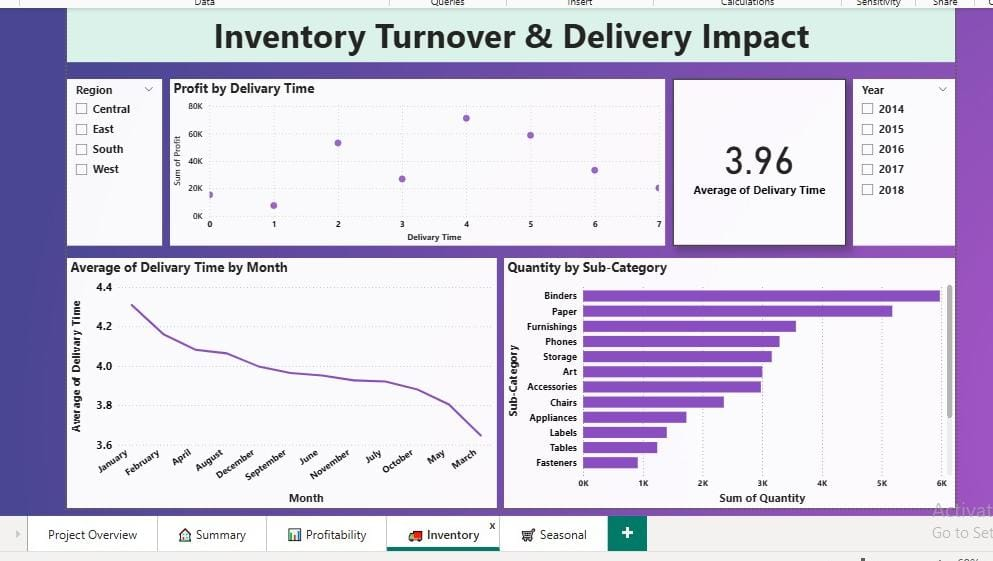

What the dashboard file says about the page in this screenshot:
{"tool":"powerbi","page":{"name":"🚚 Inventory","canvas":[1280,720],"ordinal":3},"visuals":[{"type":"textbox","box":[0,0,1280.2,77.8],"z":0},{"type":"scatterChart","title":" Profit by Delivary Time","fields":{"X":["Orders.Delivary Time"],"Y":["Sum(Orders.Profit)"]},"box":[148.3,102.2,712.8,240.5],"z":1000},{"type":"lineChart","fields":{"Y":["Avg(Orders.Delivary Time)"],"Category":["Orders.Month"]},"box":[0,360,619.2,360],"z":2000},{"type":"card","fields":{"Values":["Avg(Orders.Delivary Time)"]},"box":[872.6,102.2,249.1,240.5],"z":3000},{"type":"clusteredBarChart","title":" Quantity by Sub-Category","fields":{"Category":["Orders.Sub-Category"],"Y":["Sum(Orders.Quantity)"]},"box":[629.3,360,650.9,360],"z":4000},{"type":"slicer","fields":{"Values":["Orders.Region"]},"box":[0,102.2,136.8,240.5],"z":5000},{"type":"slicer","fields":{"Values":["Orders.Year"]},"box":[1131.8,102.2,148.3,240.5],"z":6000}]}

Visuals, with their boxes on the page's 1280x720 design canvas (x1, y1, x2, y2). These are canvas units, not pixel positions in the 993x561 screenshot, which may show the page scaled, cropped or inside an application window:
textbox: l=0, t=0, r=1280, b=78
" Profit by Delivary Time" scatterChart: l=148, t=102, r=861, b=343
lineChart - Avg(Orders.Delivary Time) x Orders.Month: l=0, t=360, r=619, b=720
card - Avg(Orders.Delivary Time): l=873, t=102, r=1122, b=343
" Quantity by Sub-Category" clusteredBarChart: l=629, t=360, r=1280, b=720
slicer - Orders.Region: l=0, t=102, r=137, b=343
slicer - Orders.Year: l=1132, t=102, r=1280, b=343
